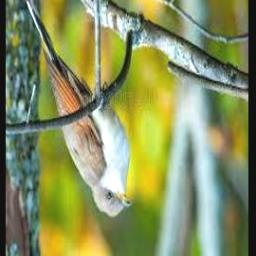Cuckoo: (18, 0, 132, 218)
